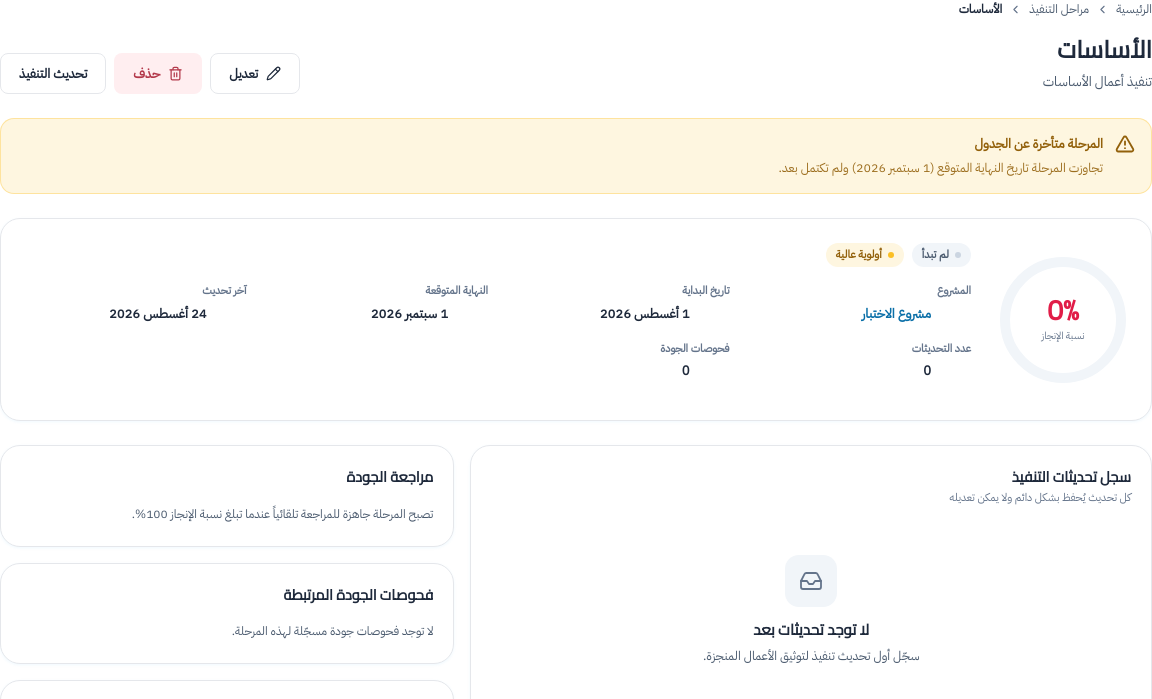
Test case: StageDetailPage lifecycle controls › renders review history and edits phase metadata
Click the button "تعديل" at coordinates (255, 74), box [210, 53, 300, 94]
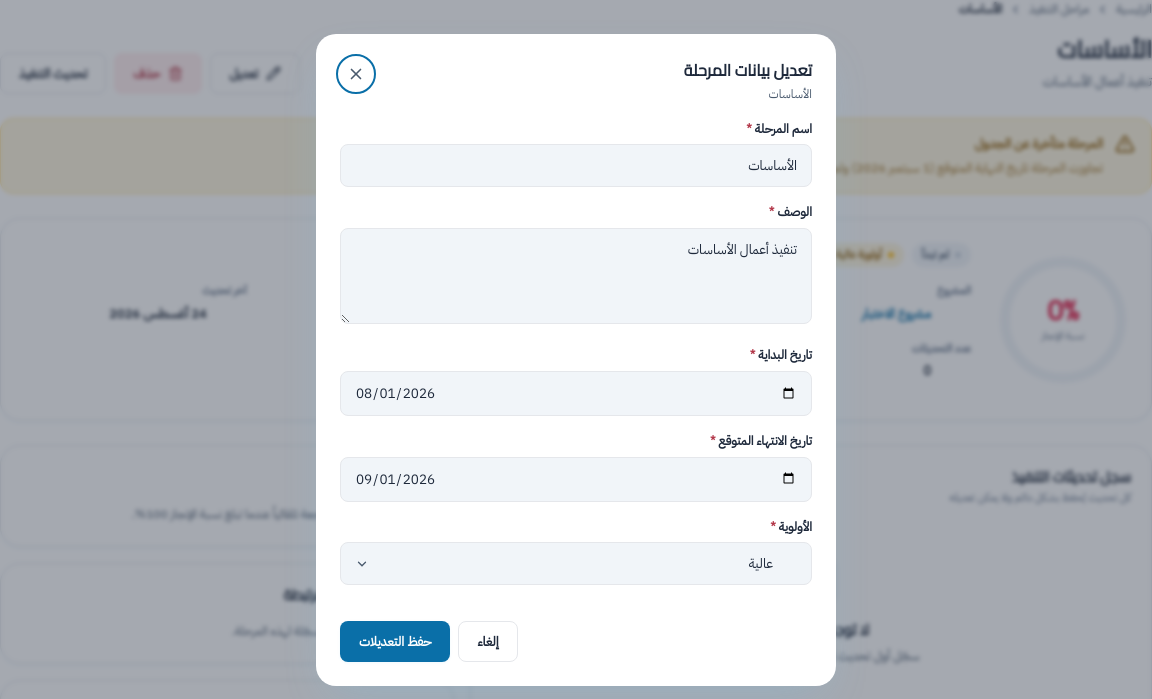
Check: the button "حفظ التعديلات" is enabled, box [340, 622, 450, 662]
Check: the field labelled "اسم المرحلة*" holds "الأساسات", box [340, 144, 812, 188]
